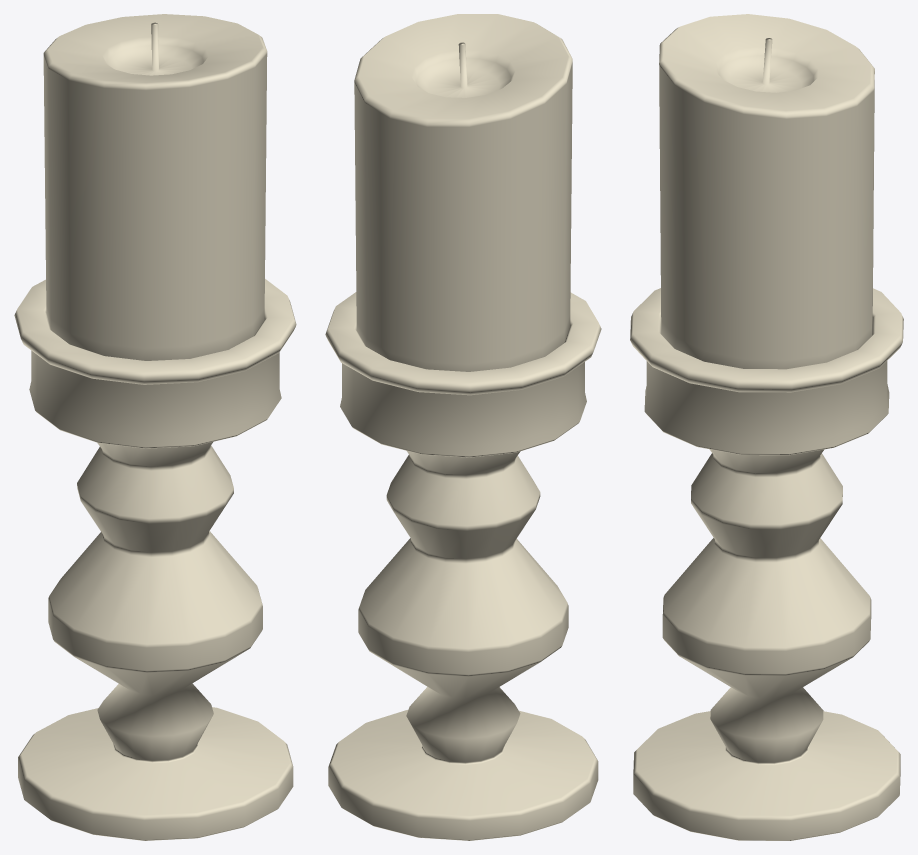
File: candle.fbx
3 renders of one model, left to right at view 1: azimuth 30°, elevation 25°; view 2: azimuth 150°, elevation 25°; view 3: azimuth 270°, elevation 25°, orthographic. The views are drawn at different scales.
Parts seen in each view (by area): view 1: candle_01; view 2: candle_01; view 3: candle_01.
Boxes of the visible parts, <box> form: candle_01: <box>14,14,296,840</box>; candle_01: <box>325,14,601,840</box>; candle_01: <box>630,14,903,840</box>.
Size of the model in its own units: 6.2 by 18.64 by 6.2.
